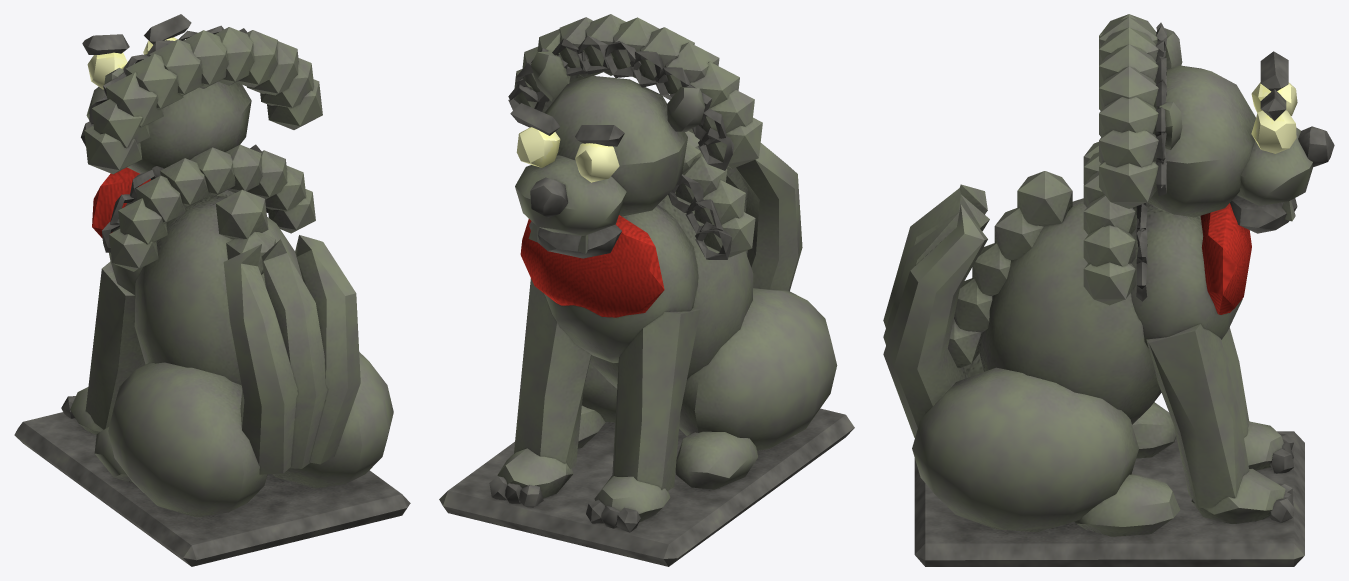
The model's file is komainu.fbx.
The picture shows the model from 3 angles, left to right: view 1: azimuth 30°, elevation 25°; view 2: azimuth 150°, elevation 25°; view 3: azimuth 270°, elevation 25°; orthographic projection. The views are drawn at different scales.
Visible parts, largest first — view 1: komainu; view 2: komainu; view 3: komainu.
Part boxes in pixels (x1,y1,x2,y2): komainu: (14,14,410,566); komainu: (439,14,854,566); komainu: (883,14,1334,566).
Size of the model in its own units: 490 by 825 by 698.
Materials: 1 (1 with a texture image).
